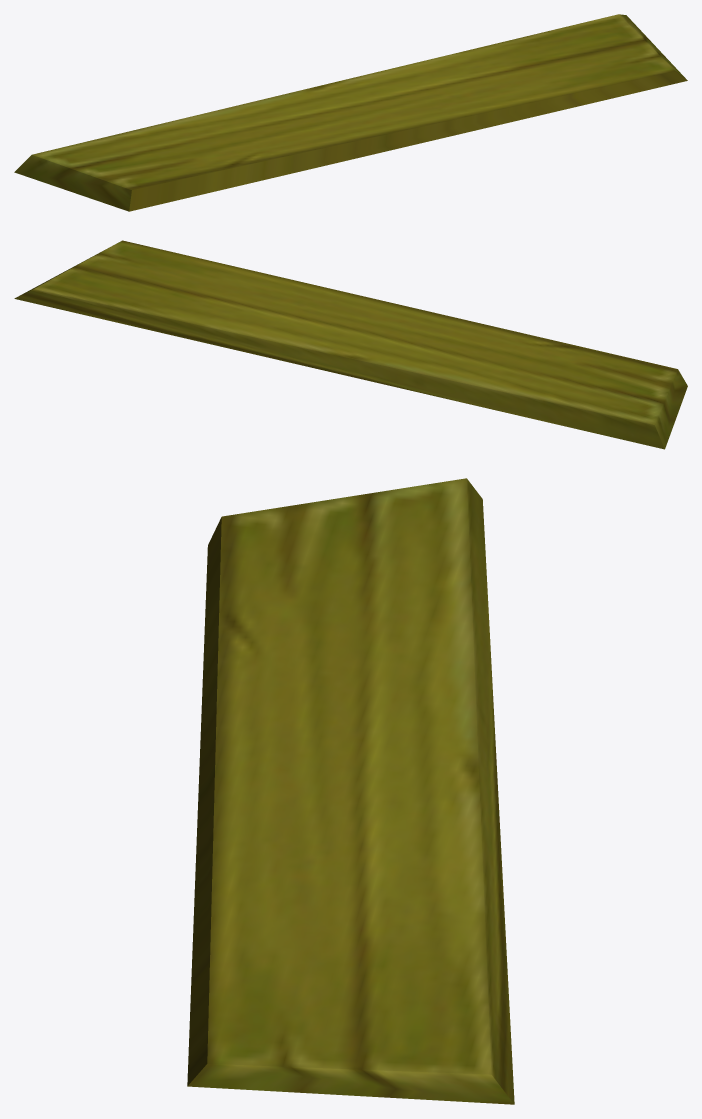
File: Cunluo_xiaowujian03.FBX
3 views of the same model, one above another, from view 1: azimuth 30°, elevation 25°; view 2: azimuth 150°, elevation 25°; view 3: azimuth 270°, elevation 25° (orthographic). The views are drawn at different scales.
Visible parts, largest first — view 1: Cunluo_xiaowujian03; view 2: Cunluo_xiaowujian03; view 3: Cunluo_xiaowujian03.
Part boxes in pixels (bbox=[...]): Cunluo_xiaowujian03: bbox=[14, 14, 687, 211]; Cunluo_xiaowujian03: bbox=[14, 240, 687, 449]; Cunluo_xiaowujian03: bbox=[187, 478, 514, 1104].
Size of the model in its own units: 257 by 7.12 by 58.66.
